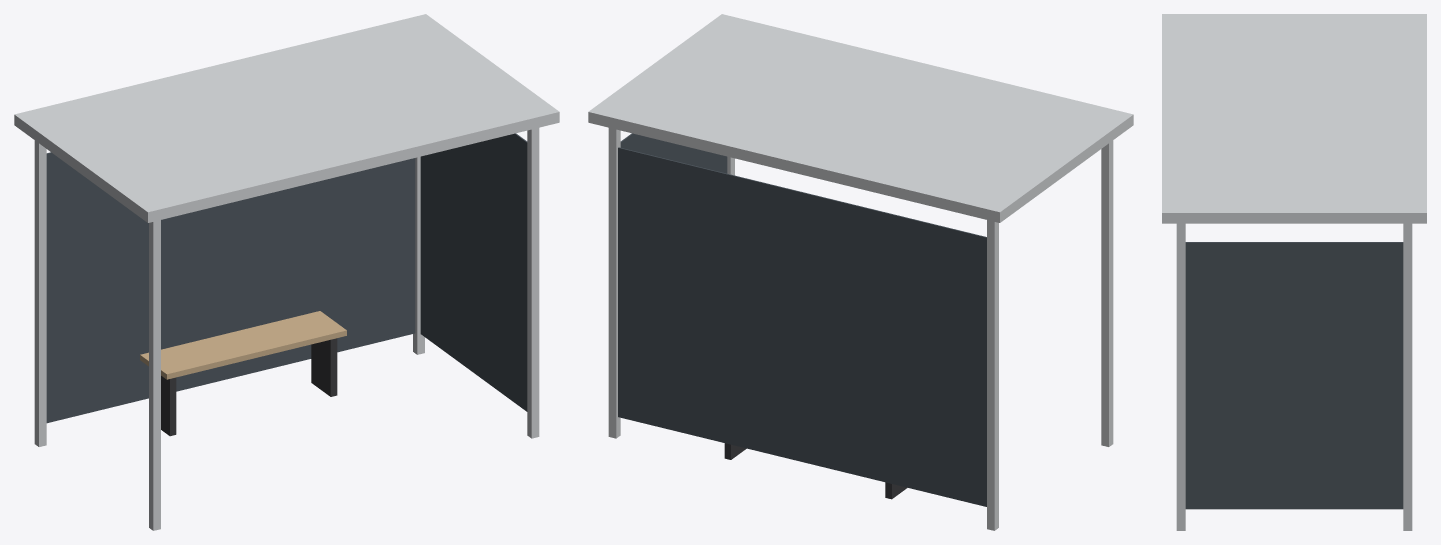
The model's file is bus_shelter.glb.
The picture shows the model from 3 angles, left to right: view 1: azimuth 30°, elevation 25°; view 2: azimuth 150°, elevation 25°; view 3: azimuth 270°, elevation 25°; orthographic projection.
Visible parts, largest first — view 1: glass_back, roof, glass_side, bench_seat, post_fr, post_rl, post_fl, bench_leg_r, post_rr, bench_leg_l; view 2: glass_back, roof, post_fl, post_rl, post_rr, glass_side; view 3: glass_side, roof, post_fr, post_rr.
Part boxes in pixels (left/top/right/bottom): glass_back: left=46, top=152, right=415, bottom=423; roof: left=14, top=14, right=559, bottom=222; glass_side: left=420, top=133, right=527, bottom=411; bench_seat: left=140, top=311, right=346, bottom=379; post_fr: left=527, top=128, right=539, bottom=438; post_rl: left=34, top=140, right=46, bottom=446; post_fl: left=149, top=220, right=160, bottom=530; bench_leg_r: left=311, top=338, right=337, bottom=396; post_rr: left=413, top=156, right=424, bottom=354; bench_leg_l: left=161, top=376, right=176, bottom=436; glass_back: left=618, top=147, right=986, bottom=506; roof: left=588, top=14, right=1133, bottom=222; post_fl: left=1101, top=140, right=1113, bottom=446; post_rl: left=987, top=220, right=998, bottom=530; post_rr: left=608, top=128, right=620, bottom=438; glass_side: left=620, top=133, right=727, bottom=173; glass_side: left=1185, top=242, right=1403, bottom=509; roof: left=1162, top=14, right=1426, bottom=223; post_fr: left=1176, top=223, right=1185, bottom=530; post_rr: left=1403, top=223, right=1412, bottom=530.
Bounding box in the file's own units: 3.2 × 2.43 × 1.8.
